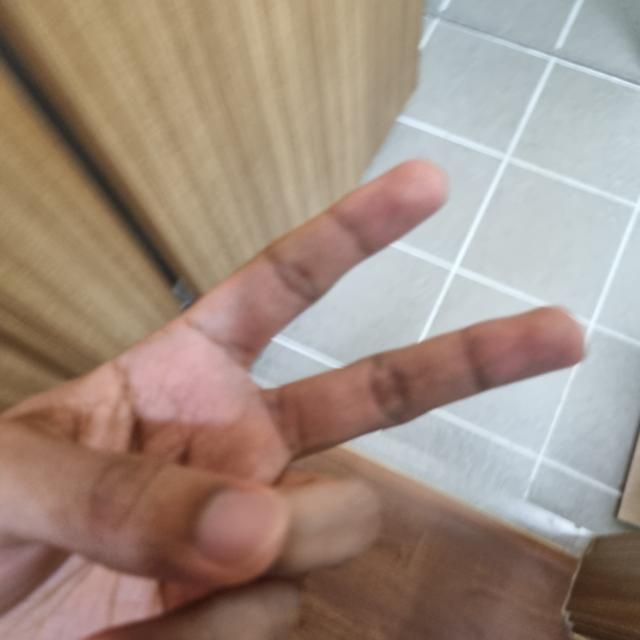Scissors: (0, 164, 593, 640)
